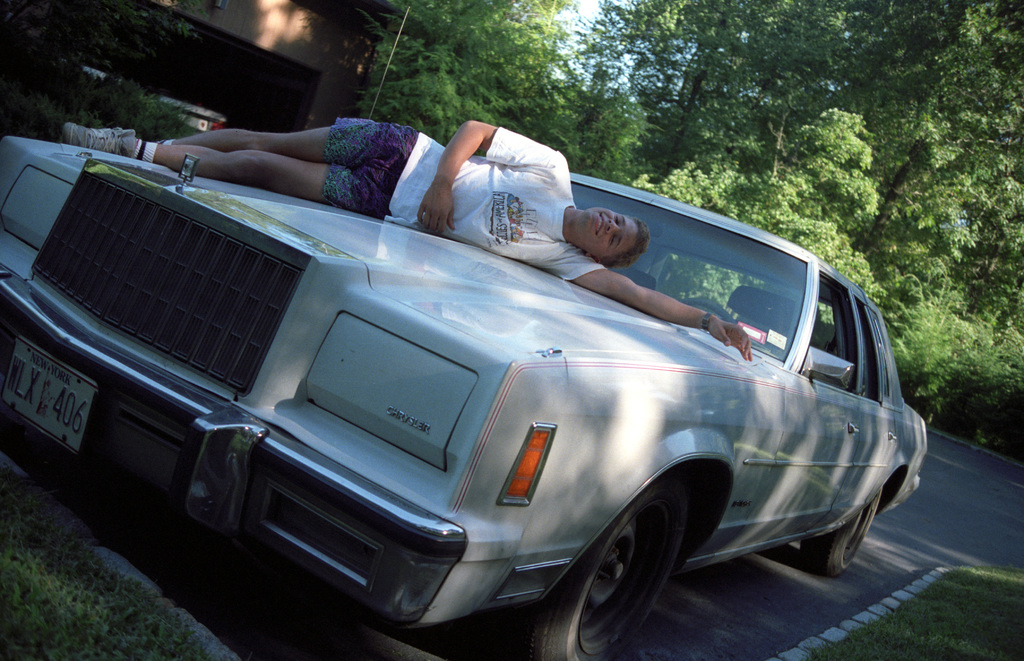Person: (62, 117, 754, 361)
